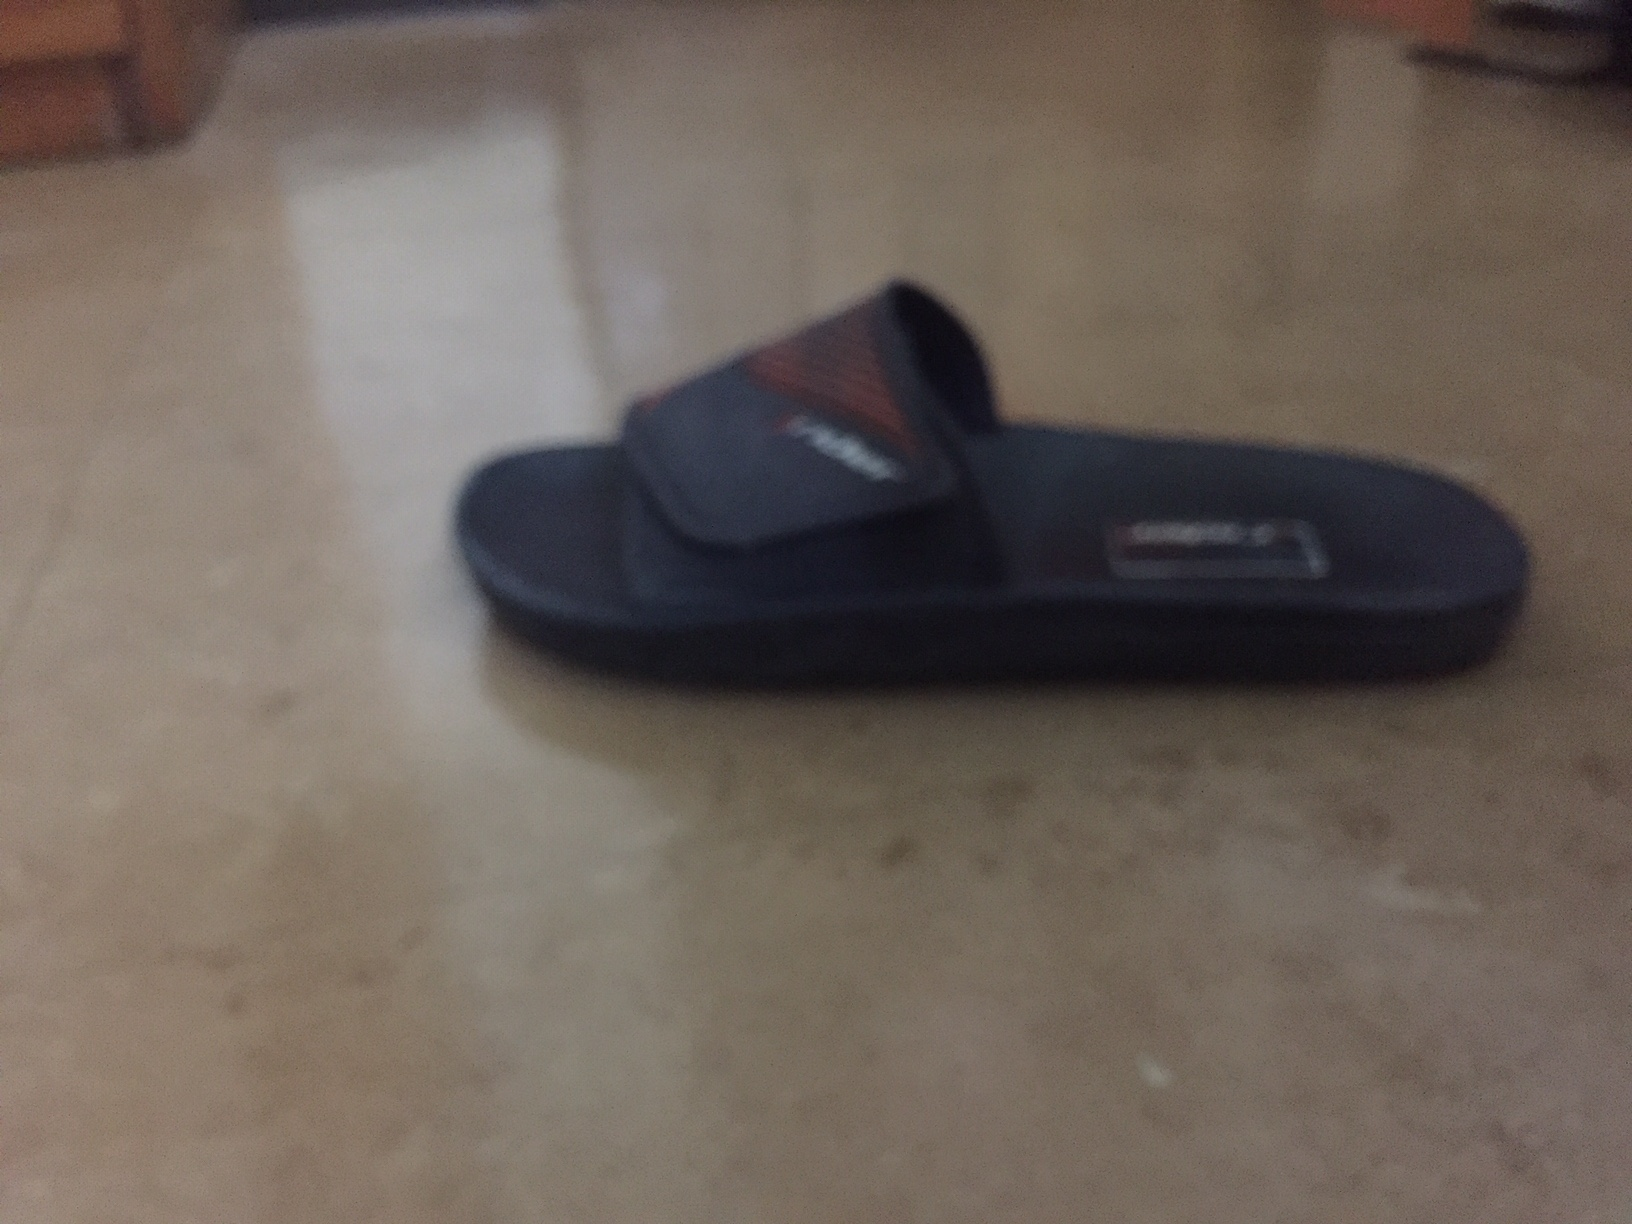car: (445, 278, 1560, 778)
